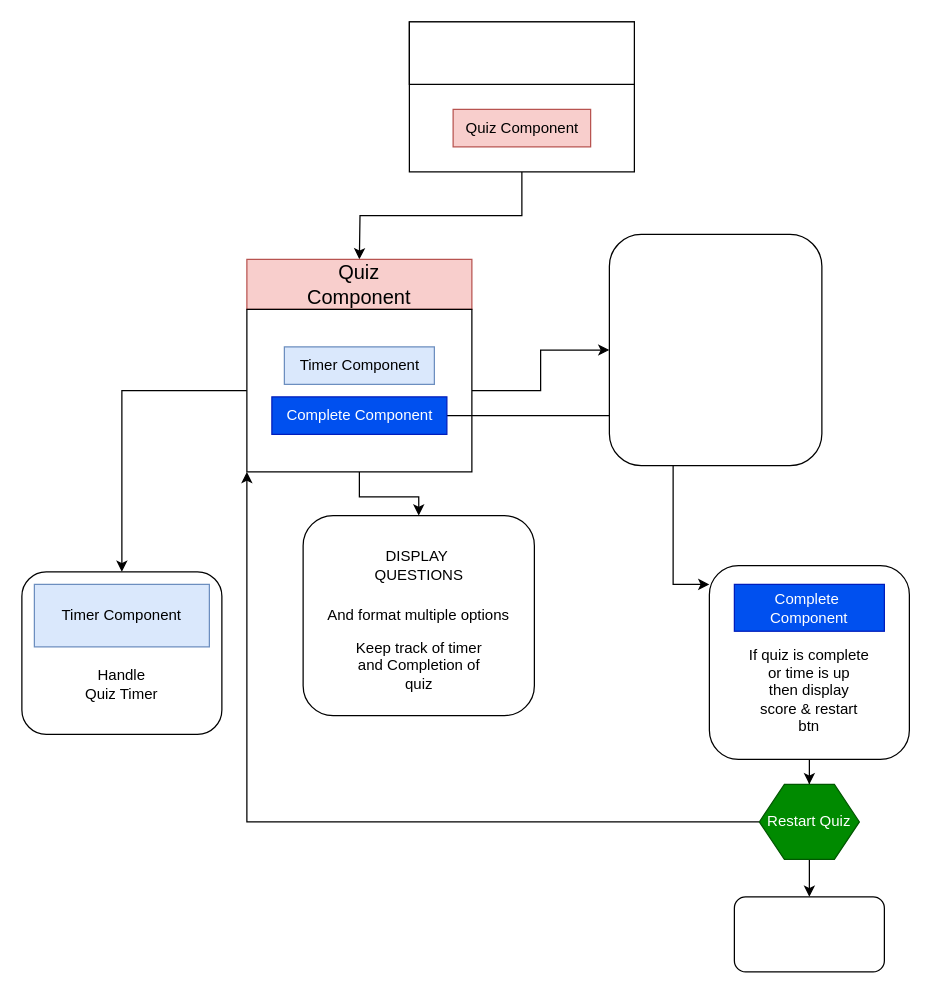
The diagram is 931 pixels wide and 994 high, and some of its shapes have lost their labels. Each missing label, with the centre of its shape:
"API Call to fetch questions and answers" goes at [715,349].
"App" goes at [521,52].
"End" goes at [808,934].
